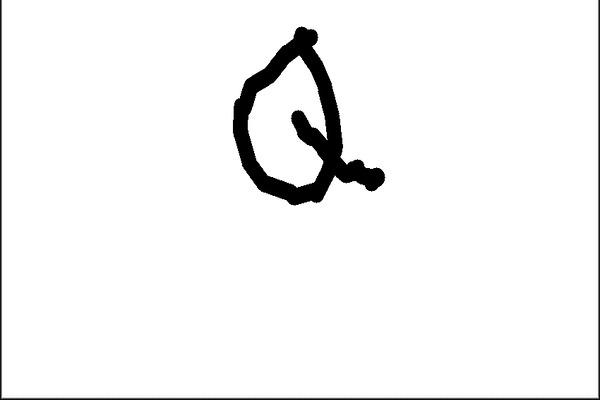Q: (216, 23, 393, 211)
